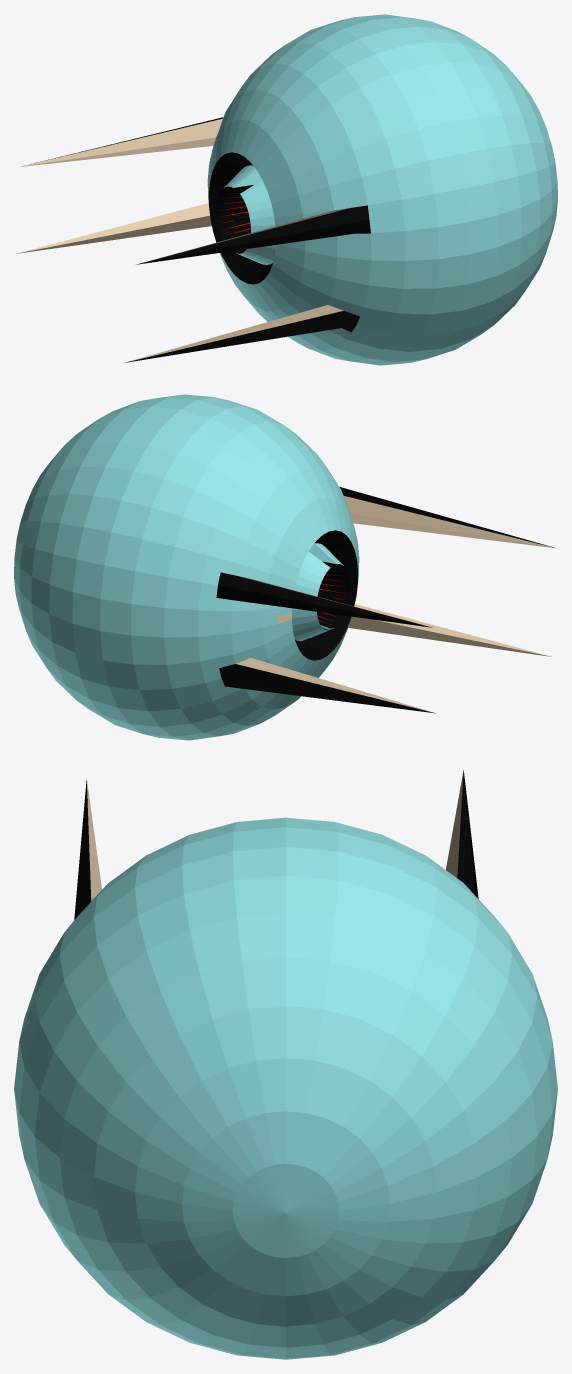
File: Ship.fbx
3 views of the same model, one above another, from view 1: azimuth 30°, elevation 25°; view 2: azimuth 150°, elevation 25°; view 3: azimuth 270°, elevation 25° (orthographic). The views are drawn at different scales.
Parts seen in each view (by area): view 1: Sphere; view 2: Sphere; view 3: Sphere.
Boxes of the visible parts, box(x1,y1,x2,y2) form: Sphere: box(15, 14, 557, 365); Sphere: box(14, 394, 556, 740); Sphere: box(14, 770, 557, 1359).
Size of the model in its own units: 1000 by 649 by 650.
